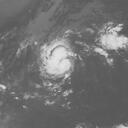cyclone: (39, 39, 75, 79)
